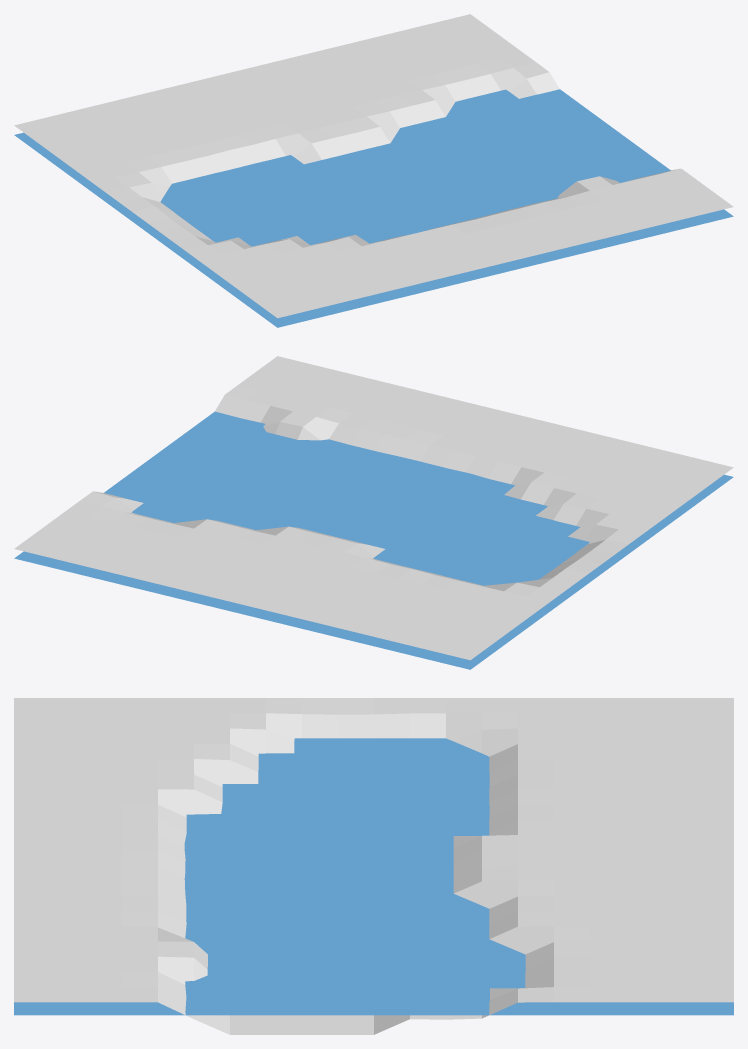
The model's file is River1-1.fbx.
3 renders of one model, top to bottom at view 1: azimuth 30°, elevation 25°; view 2: azimuth 150°, elevation 25°; view 3: azimuth 270°, elevation 25°, orthographic. The views are drawn at different scales.
Parts seen in each view (by area): view 1: River1-1, RiverWater1-1; view 2: River1-1, RiverWater1-1; view 3: River1-1, RiverWater1-1.
Boxes of the visible parts, <box> form: River1-1: <box>14,14,733,318</box>; RiverWater1-1: <box>14,89,733,327</box>; River1-1: <box>14,356,733,660</box>; RiverWater1-1: <box>14,411,733,669</box>; River1-1: <box>14,698,733,1034</box>; RiverWater1-1: <box>14,738,733,1015</box>.
Bounding box in the file's own units: 2000 × 100 × 2000.
